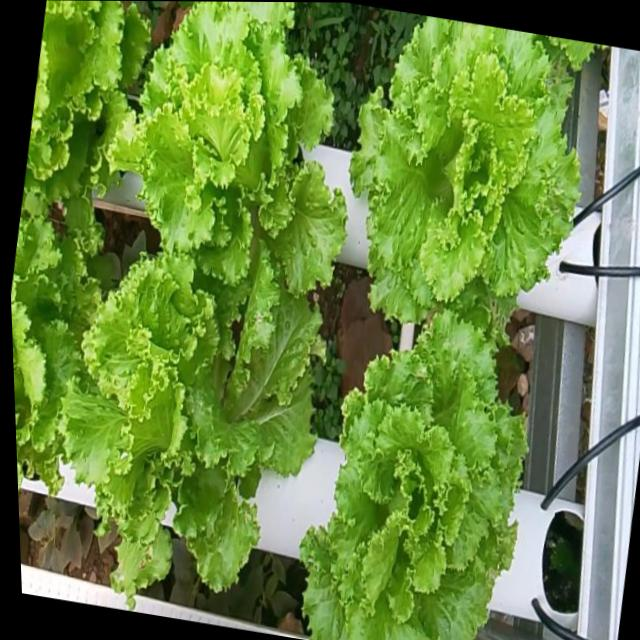Mature: (381, 26, 640, 355), (112, 252, 349, 582), (157, 2, 378, 321), (328, 325, 546, 640), (11, 208, 144, 493), (26, 0, 197, 211)
